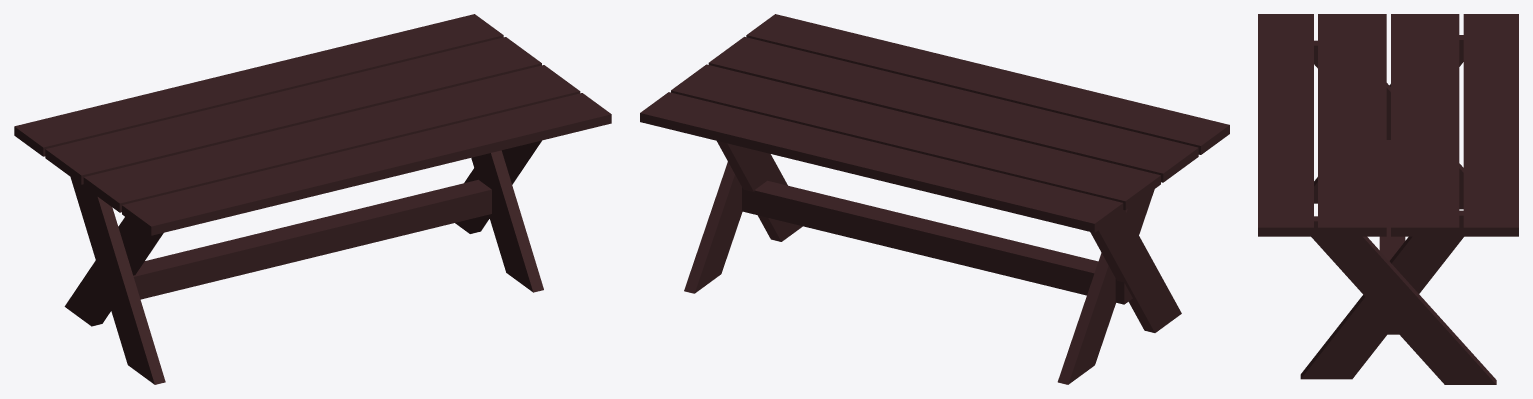
File: Mesa1.fbx
3 renders of one model, left to right at view 1: azimuth 30°, elevation 25°; view 2: azimuth 150°, elevation 25°; view 3: azimuth 270°, elevation 25°, orthographic. The views are drawn at different scales.
Parts seen in each view (by area): view 1: Cube.006; view 2: Cube.006; view 3: Cube.006.
Boxes of the visible parts, <box> form: Cube.006: <box>14,14,611,384</box>; Cube.006: <box>640,14,1229,384</box>; Cube.006: <box>1258,14,1518,384</box>.
Bounding box in the file's own units: 871 × 327 × 449.
